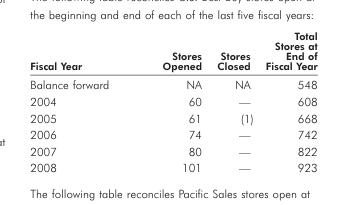table: (29, 28, 316, 174)
table column: (29, 28, 134, 174), (134, 28, 208, 174), (258, 28, 316, 174), (208, 28, 258, 174)
table column header: (29, 28, 316, 92)
table row: (29, 28, 316, 92), (29, 92, 316, 109), (29, 125, 316, 142), (29, 109, 316, 125), (29, 142, 316, 158), (29, 158, 316, 174)
